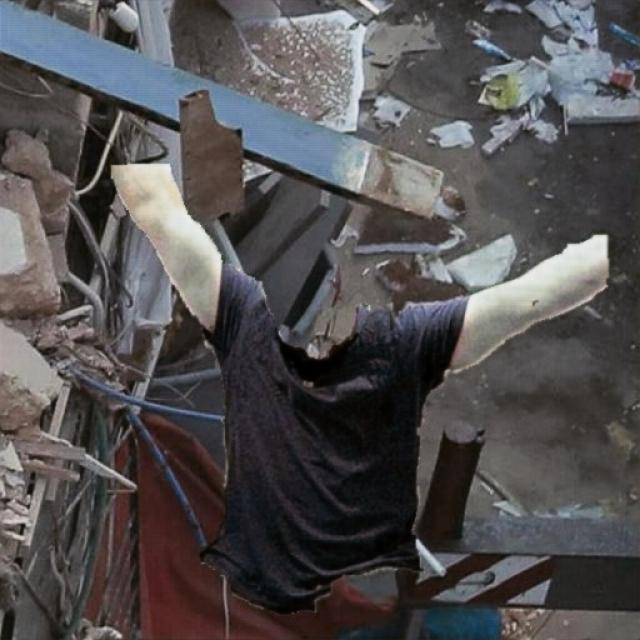Person in Rubble: (112, 163, 608, 612)
